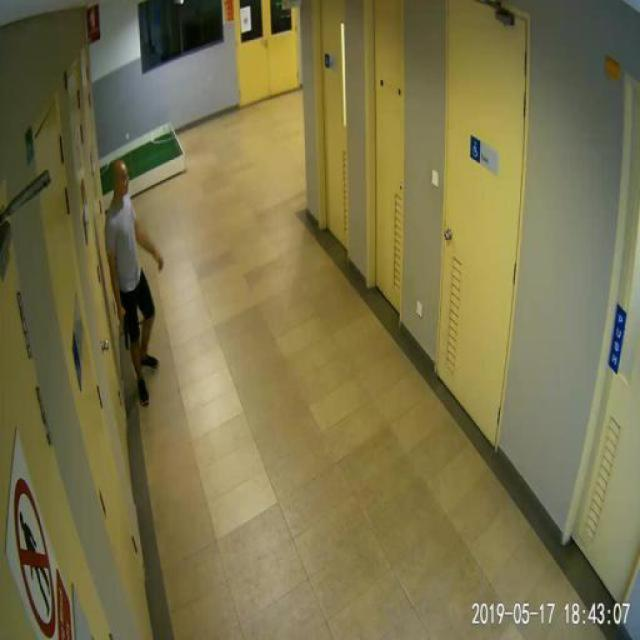pistol: (116, 308, 128, 350)
